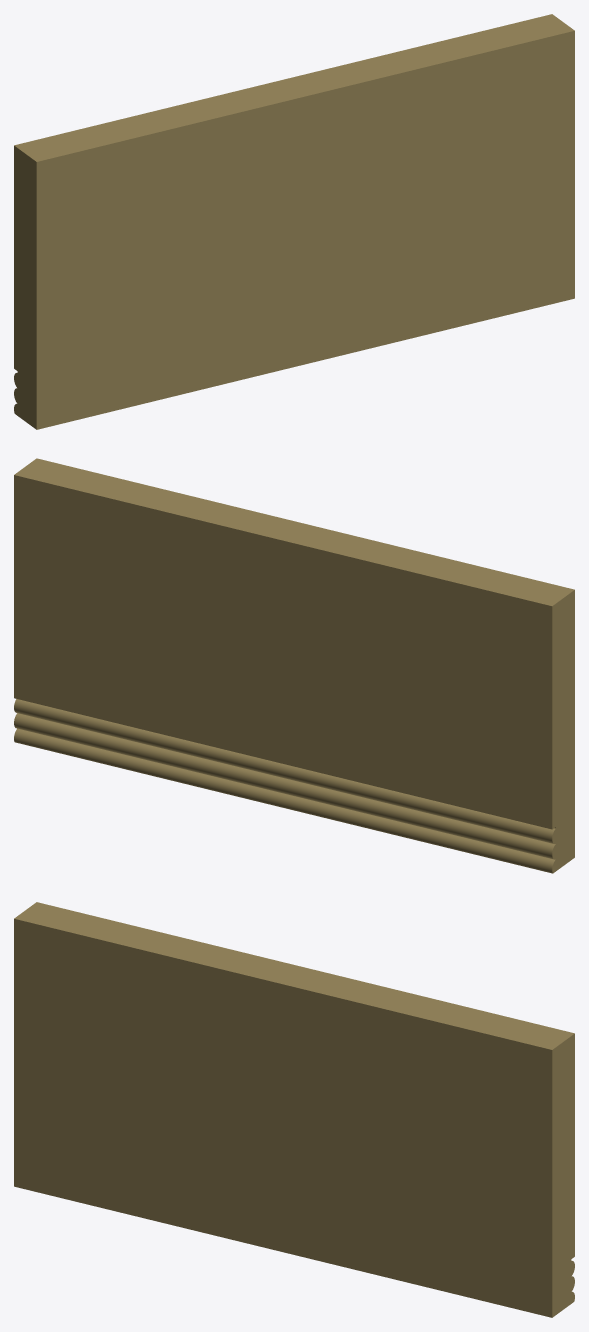
File: original-4.obj
The picture shows the model from 3 angles, top to bottom: view 1: azimuth 30°, elevation 25°; view 2: azimuth 150°, elevation 25°; view 3: azimuth 330°, elevation 25°; orthographic projection.
Visible parts, largest first — view 1: Group4/mesh7/mesh7-geometry#mesh7-geometry; view 2: Group4/mesh7/mesh7-geometry#mesh7-geometry; view 3: Group4/mesh7/mesh7-geometry#mesh7-geometry.
Boxes of the visible parts, x1,y1,x2,y2 form: Group4/mesh7/mesh7-geometry#mesh7-geometry: (14, 14, 574, 429); Group4/mesh7/mesh7-geometry#mesh7-geometry: (14, 458, 574, 873); Group4/mesh7/mesh7-geometry#mesh7-geometry: (14, 902, 574, 1317).
Bounding box in the file's own units: 0.2048 × 0.0974 × 0.015.
